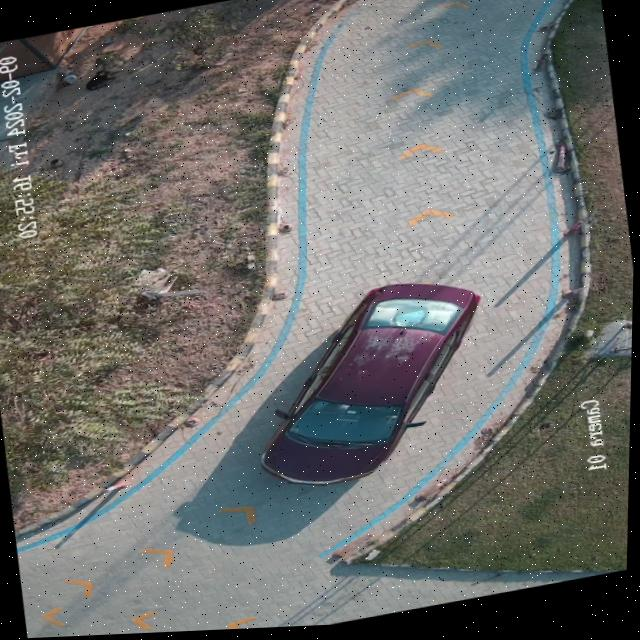car: (258, 286, 486, 487)
